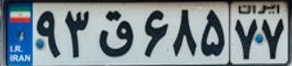character: (96, 9, 139, 60), (200, 6, 228, 65), (141, 7, 172, 60), (63, 8, 93, 62), (34, 8, 63, 63), (172, 7, 200, 62), (232, 15, 261, 62), (261, 14, 285, 61)
